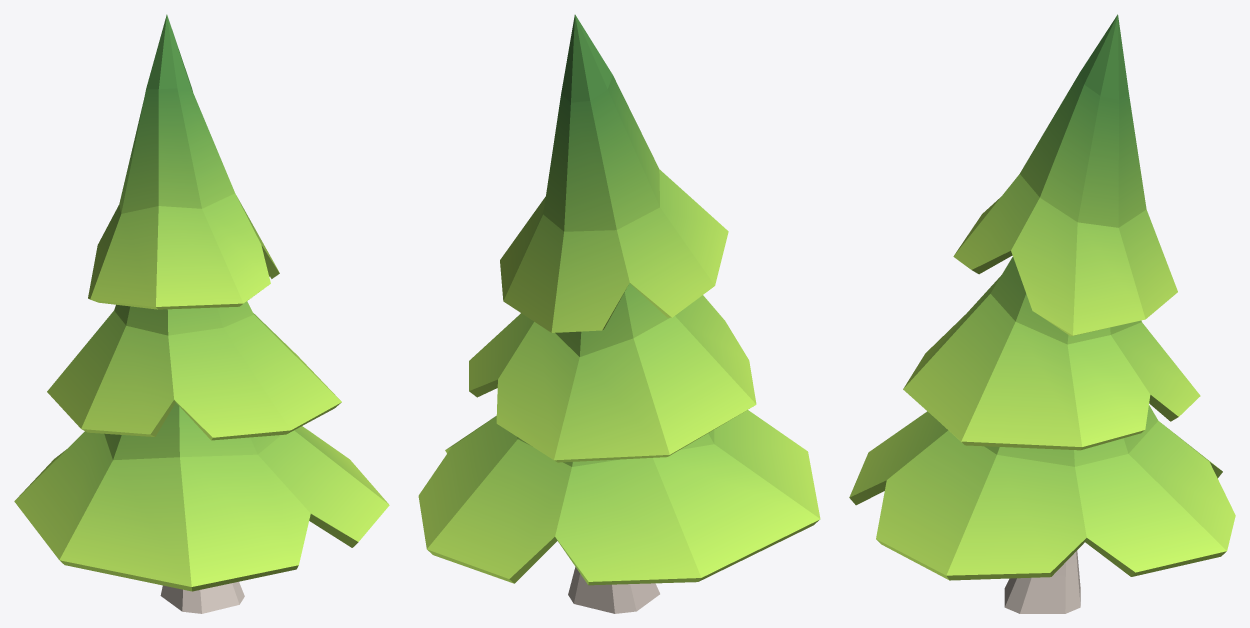
File: GreenPine3.fbx
3 renders of one model, left to right at view 1: azimuth 30°, elevation 25°; view 2: azimuth 150°, elevation 25°; view 3: azimuth 270°, elevation 25°, orthographic. The views are drawn at different scales.
Visible parts, largest first — view 1: GreenPine3; view 2: GreenPine3; view 3: GreenPine3.
Boxes of the visible parts, x1=… form: GreenPine3: x1=14, y1=14, x2=389, y2=613; GreenPine3: x1=418, y1=14, x2=820, y2=613; GreenPine3: x1=849, y1=14, x2=1235, y2=613.
Size of the model in its own units: 366 by 613 by 368.
